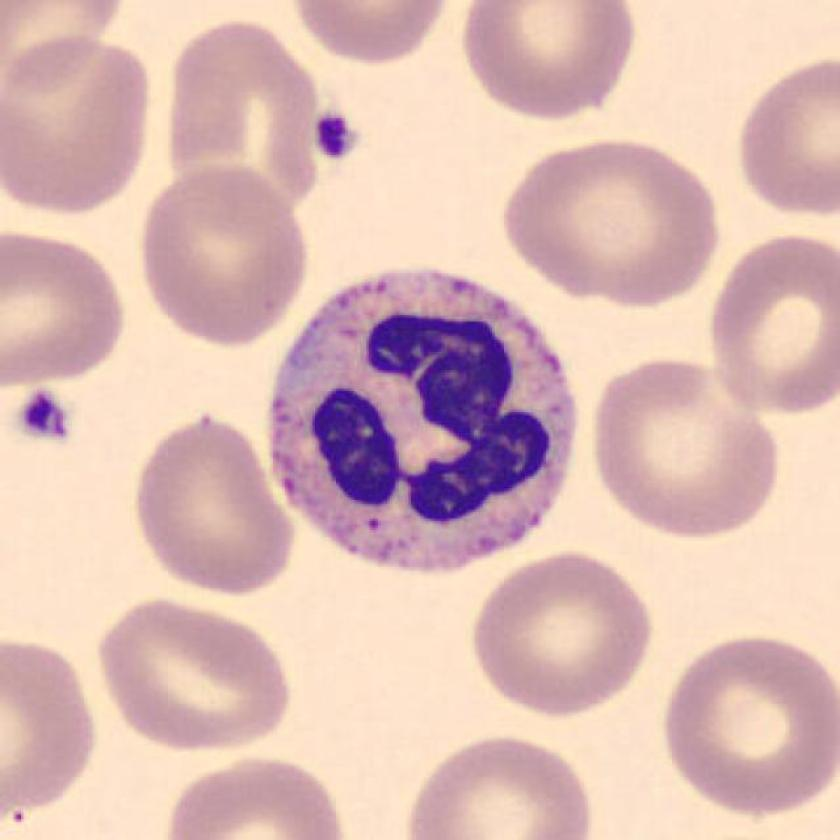neutrophil: (270, 270, 579, 572)
